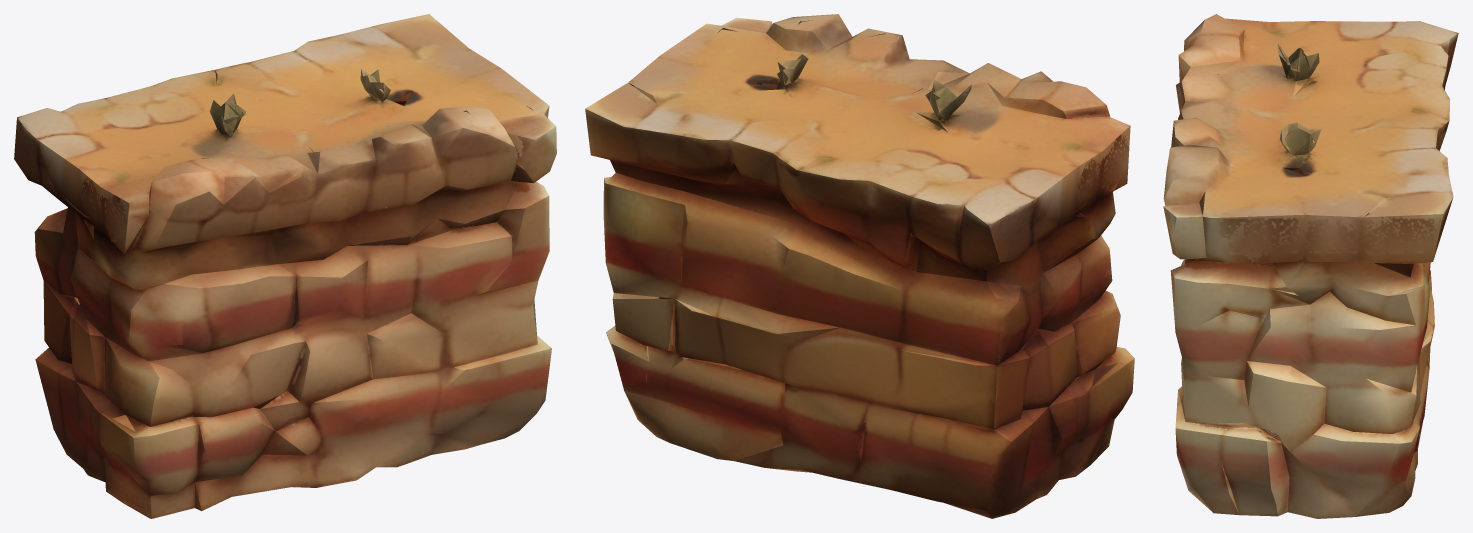
Rendered from trial_img3d_cliff.glb.
3 renders of one model, left to right at view 1: azimuth 30°, elevation 25°; view 2: azimuth 150°, elevation 25°; view 3: azimuth 270°, elevation 25°, orthographic. The views are drawn at different scales.
Parts seen in each view (by area): view 1: trial_img3d; view 2: trial_img3d; view 3: trial_img3d.
Part boxes in pixels (left/top/right/bottom): trial_img3d: left=14, top=14, right=556, bottom=518; trial_img3d: left=585, top=14, right=1134, bottom=518; trial_img3d: left=1163, top=14, right=1458, bottom=518.
Size of the model in its own units: 6 by 5.03 by 3.77.
1 material, 1 textured.
